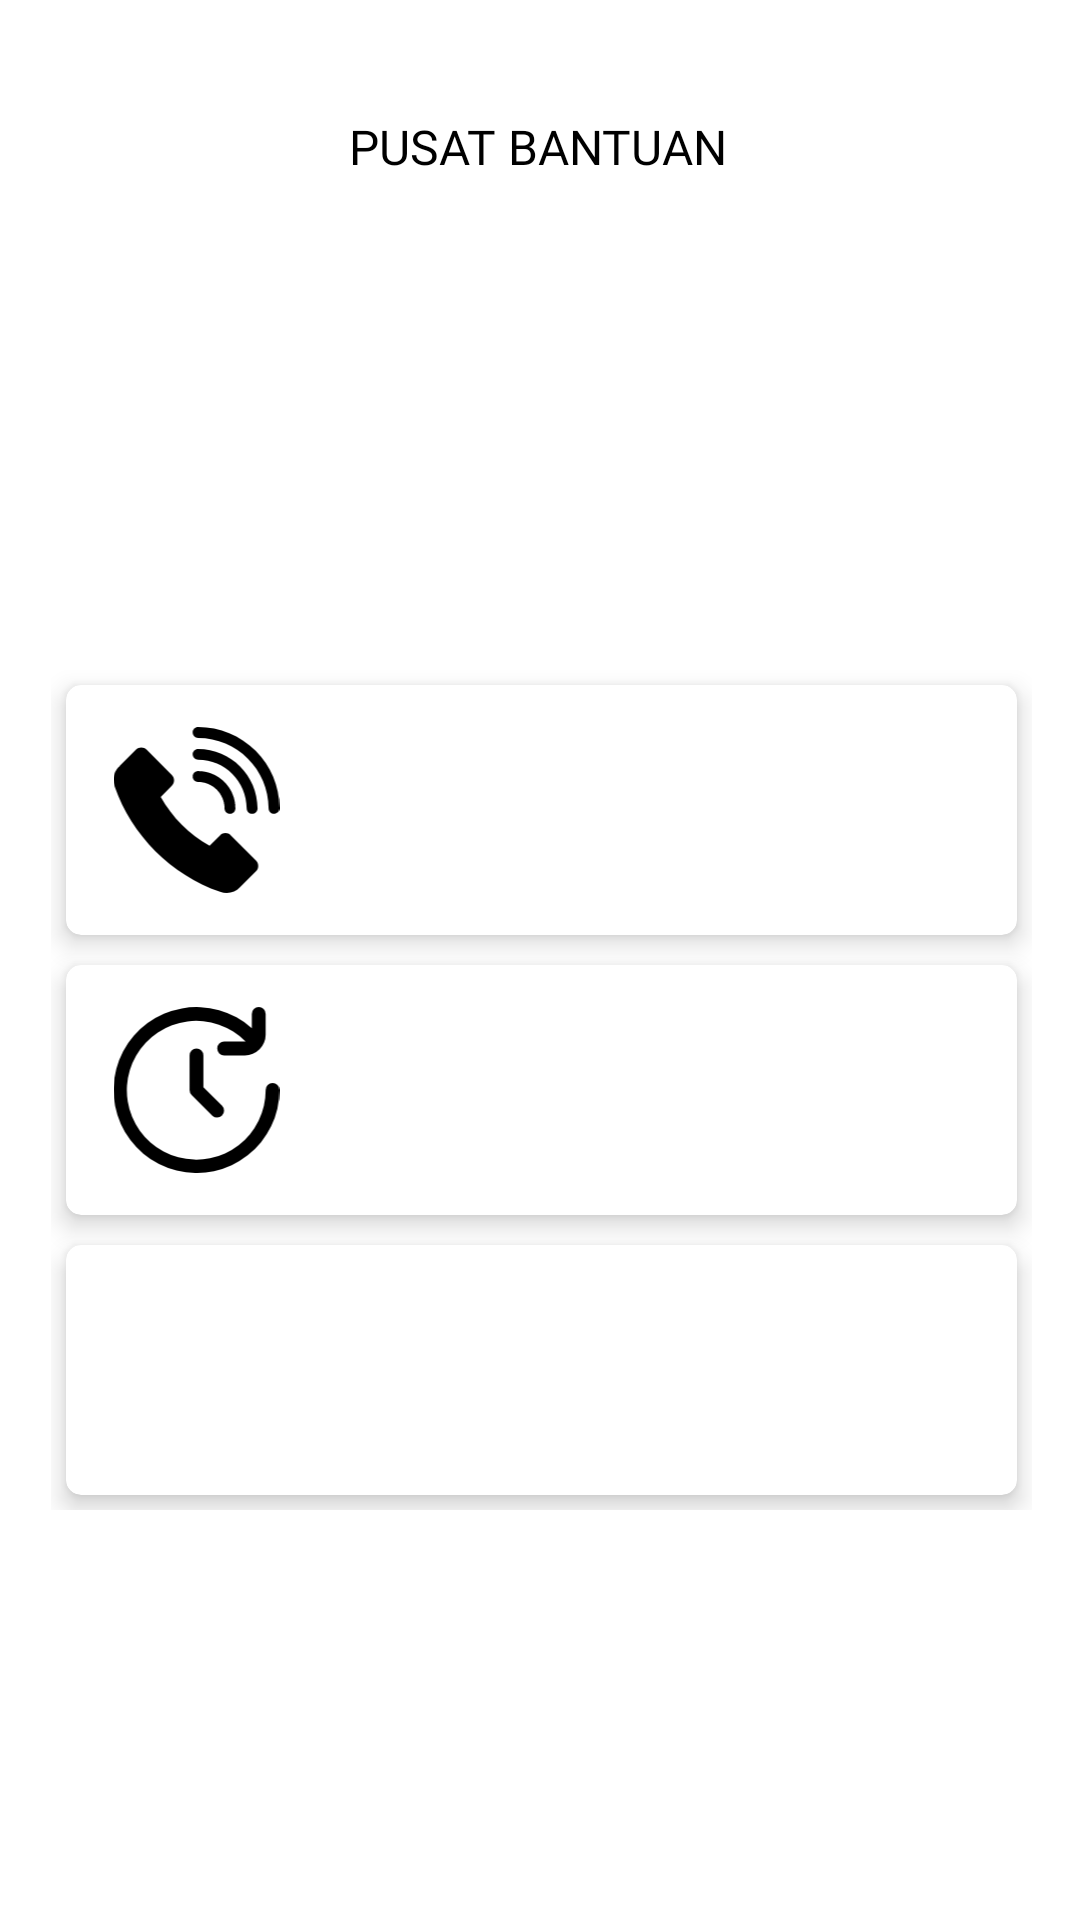

Icon click points for this 1080 x 1920 phone screenshot, format (x=x, y=y):
jam: (x=197, y=1090)
phone: (x=197, y=810)
